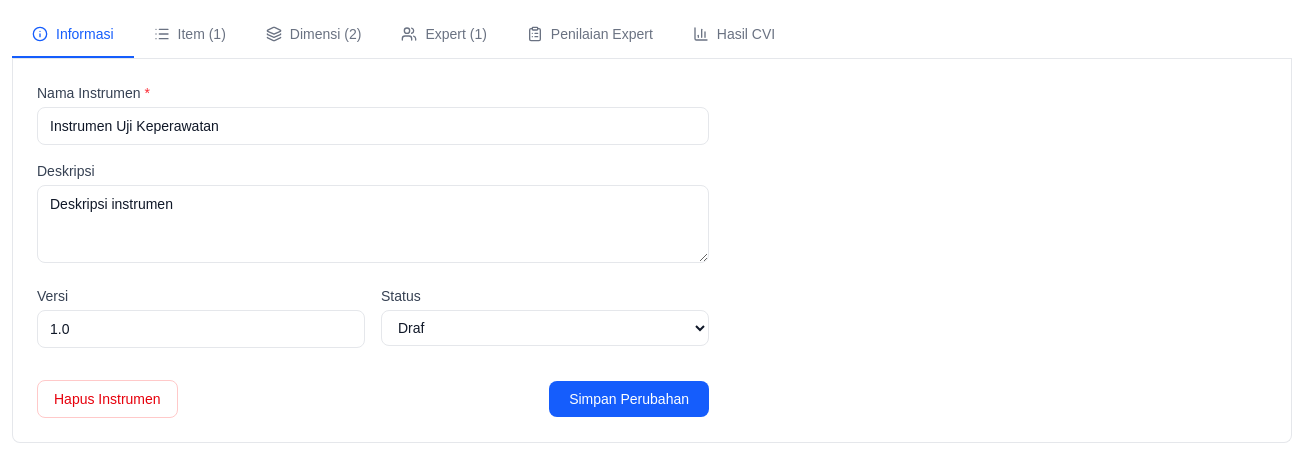
InstrumentDetailTabs › harus berpindah ke tab Expert saat diklik
This screenshot has width=1292, height=460.
What coordinates should you click on to do the following:
click the button "Expert (1)"
I would click on:
 (444, 35)
Its box is [381,12,507,58].
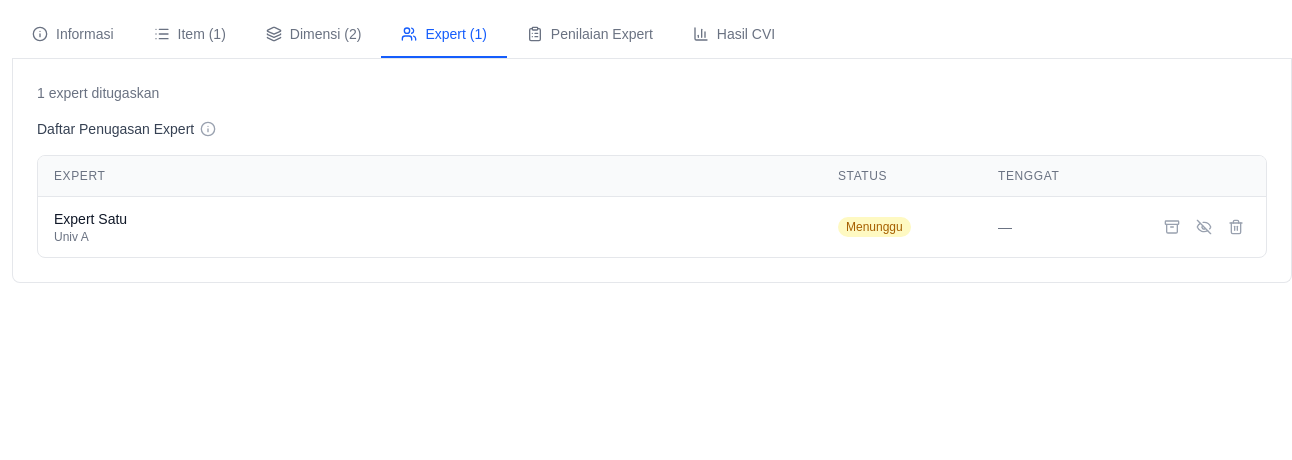
Now the text "Expert Satu" is shown, box [54,211,127,227]
